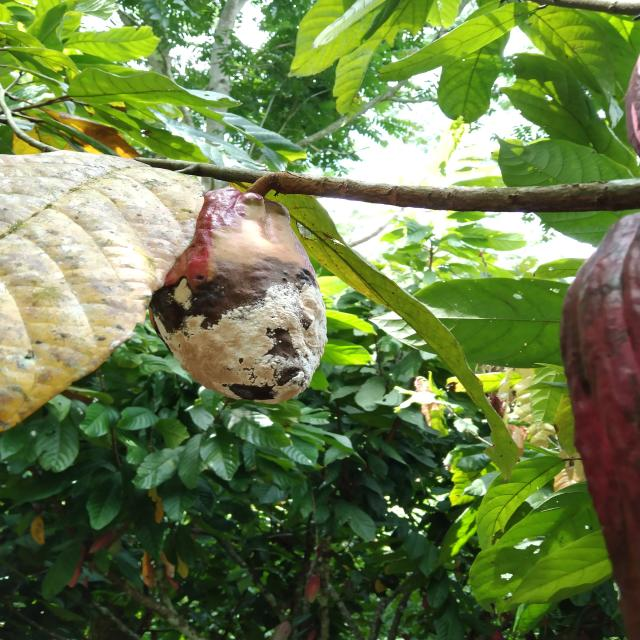Fitoftora: (557, 210, 640, 634)
Monilia: (141, 188, 326, 415)
